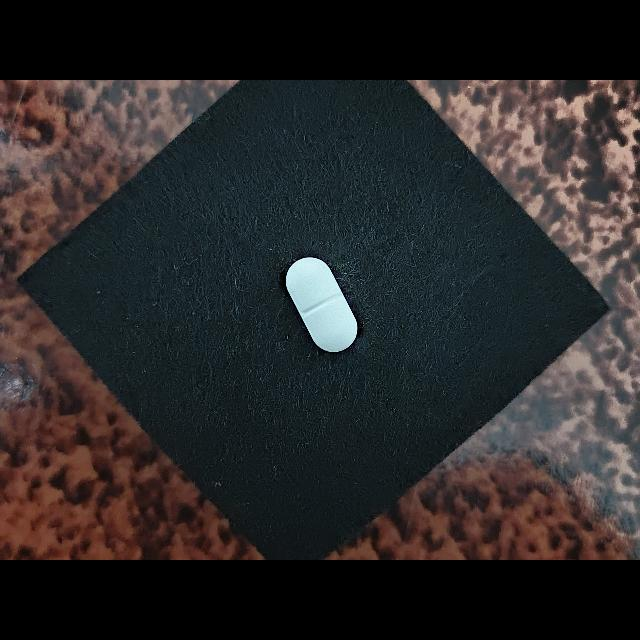Intact Pill: (285, 257, 358, 352)
